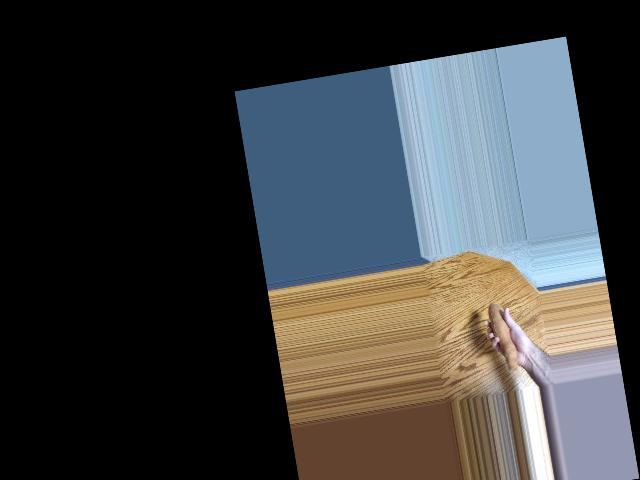sweet_potato: (485, 298, 527, 379)
